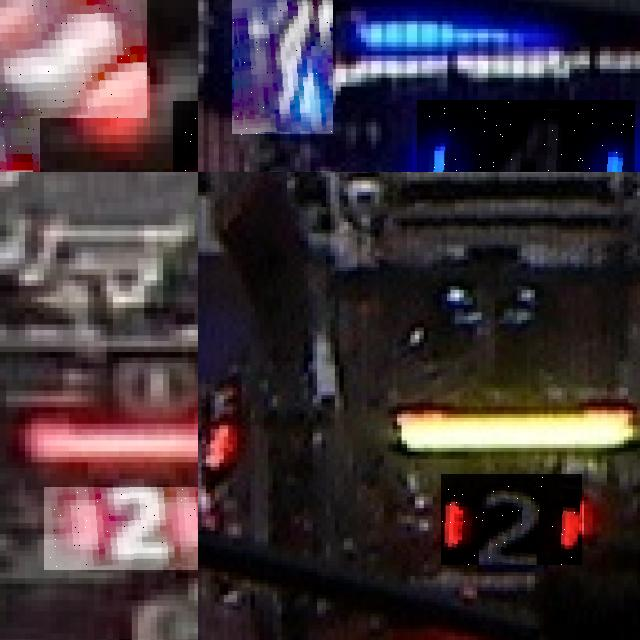B4: (416, 100, 635, 172), (231, 0, 333, 135)
R2: (442, 474, 584, 565), (43, 487, 198, 570)
R3: (0, 0, 146, 118)
